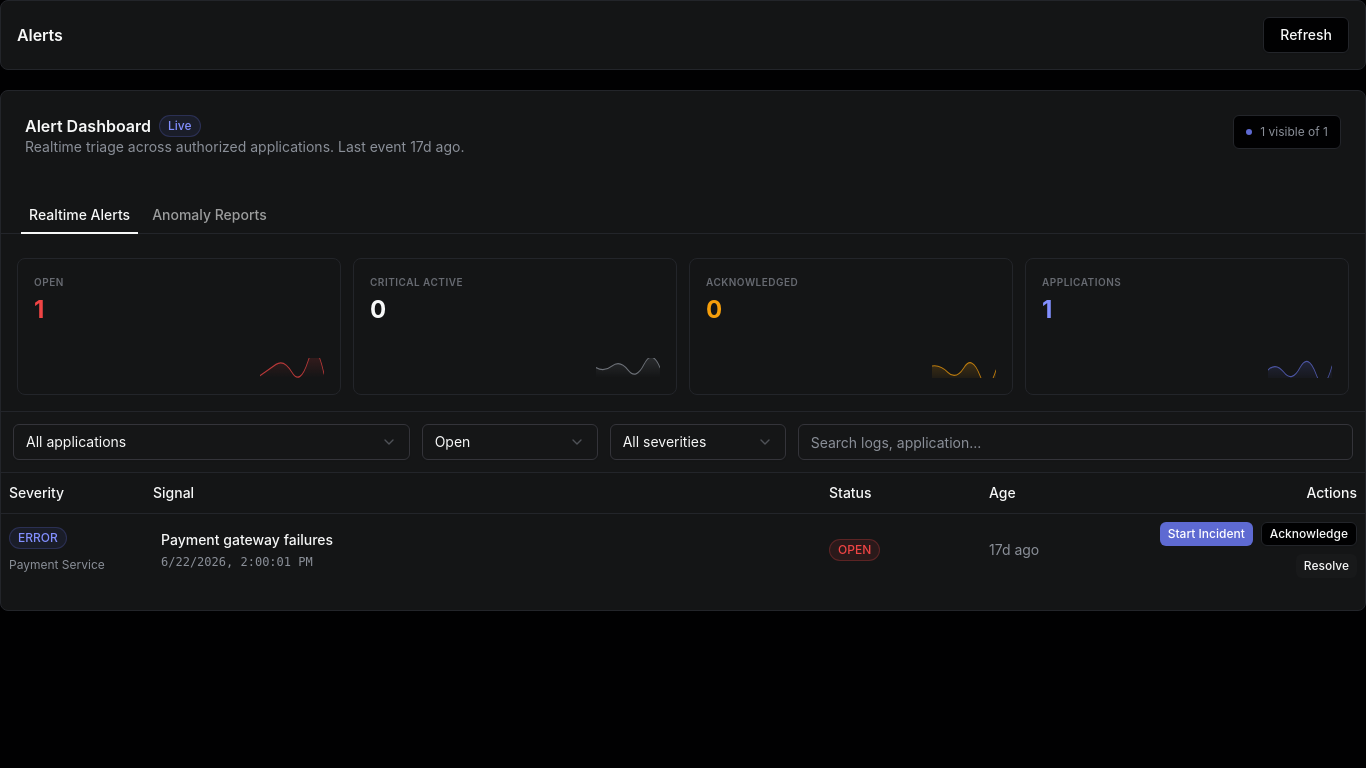
Test: AlertsPage › expands alert details inline without exposing rule UUIDs
Click the button "Payment gateway failures 6/22/2026, 2:00:01 PM" at (247, 550), box 153,524 -> 341,576
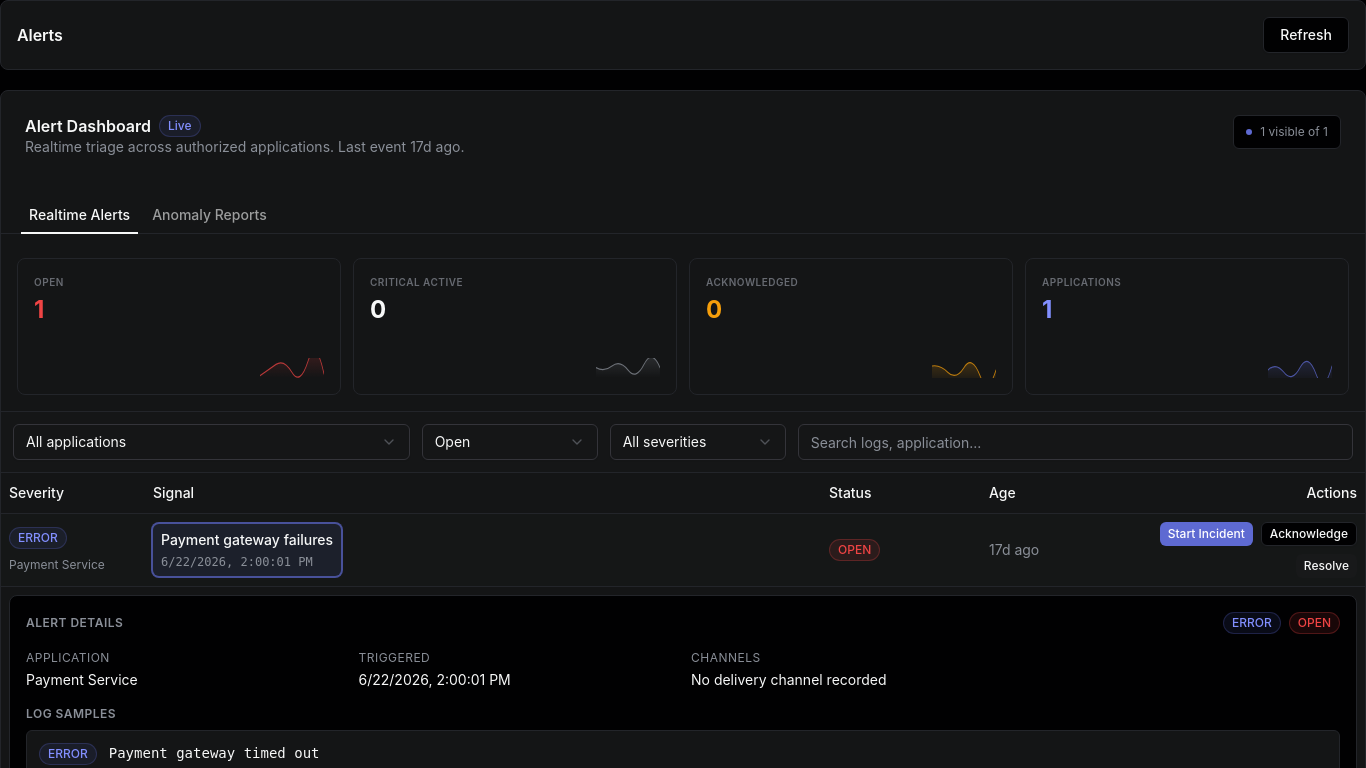
Check: the text "Alert details" is shown, box 26,614 -> 123,630
Check: the text "Log Samples" is shown, box 26,706 -> 116,720
Click the button "Payment gateway failures 6/22/2026, 2:00:01 PM" at (247, 550), box 153,524 -> 341,576
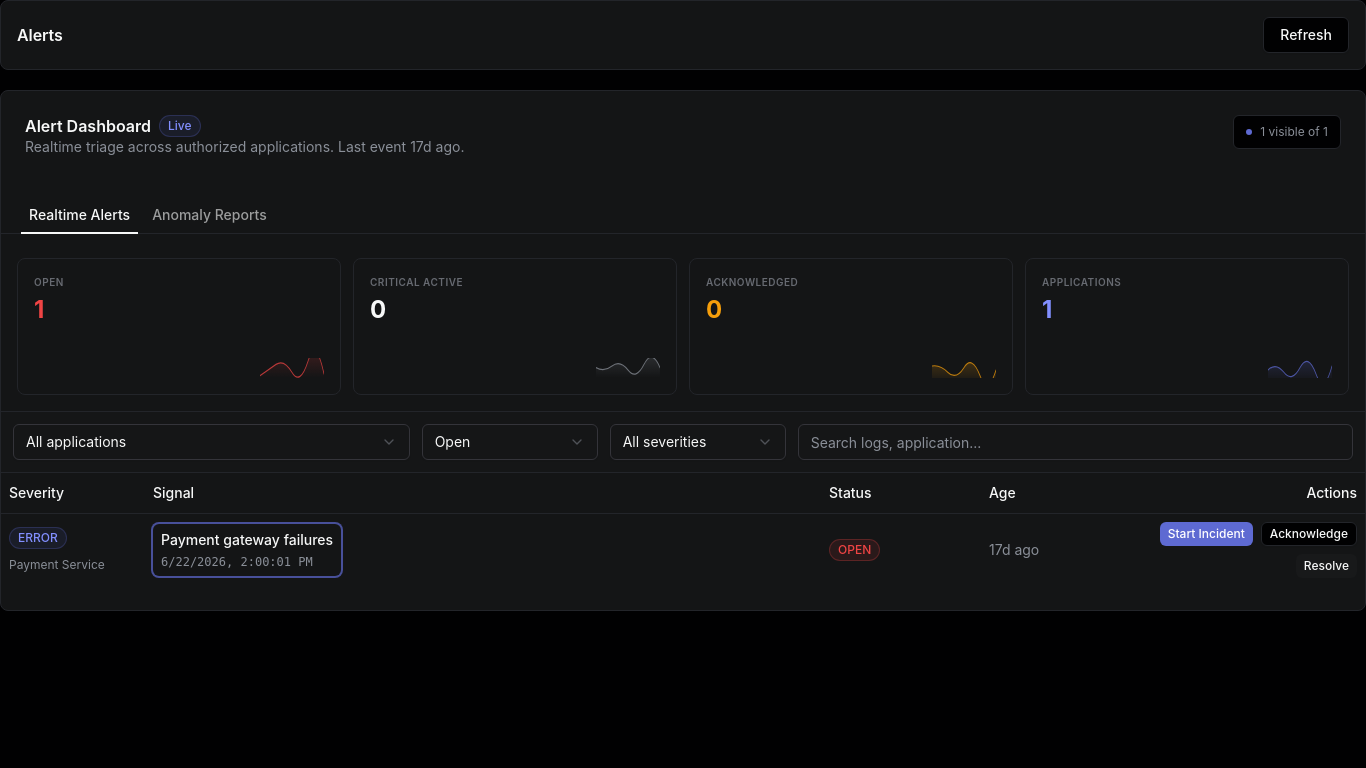
Check: the text "Alert details" is gone
